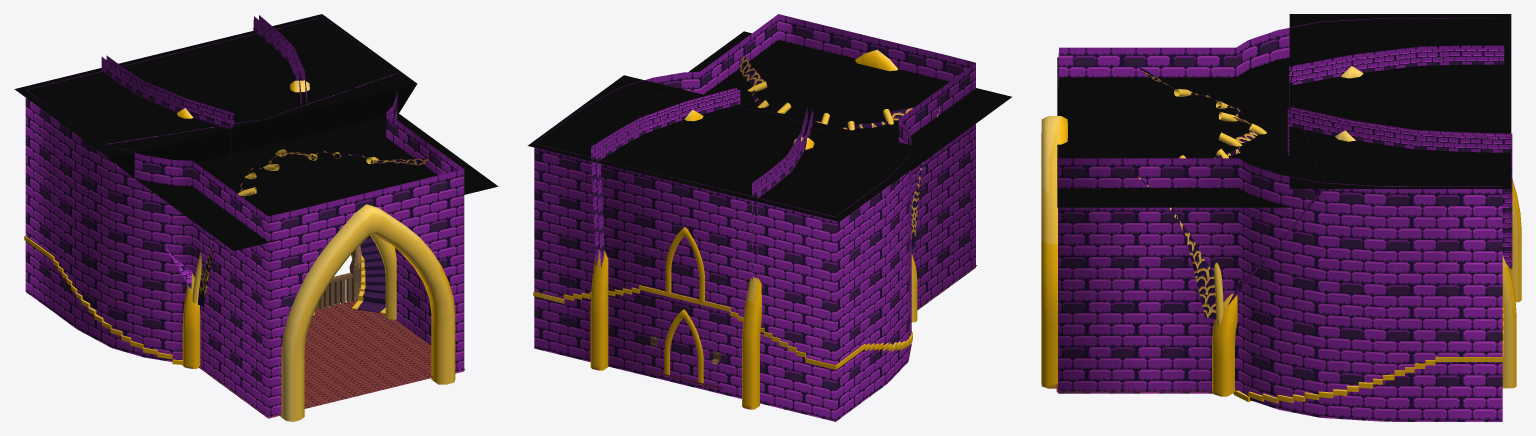
File: castelComtexturaTEXTURASOBJ.fbx
3 views of the same model, side by side, from view 1: azimuth 30°, elevation 25°; view 2: azimuth 150°, elevation 25°; view 3: azimuth 270°, elevation 25° (orthographic). The views are drawn at different scales.
Visible parts, largest first — view 1: castelo interior; view 2: castelo interior; view 3: castelo interior.
Boxes of the visible parts, box(x1,y1,x2,y2) form: castelo interior: box(14, 14, 498, 421); castelo interior: box(527, 14, 1011, 421); castelo interior: box(1041, 14, 1521, 421).
Bounding box in the file's own units: 1845 × 1248 × 2141.
10 materials, 9 textured.
